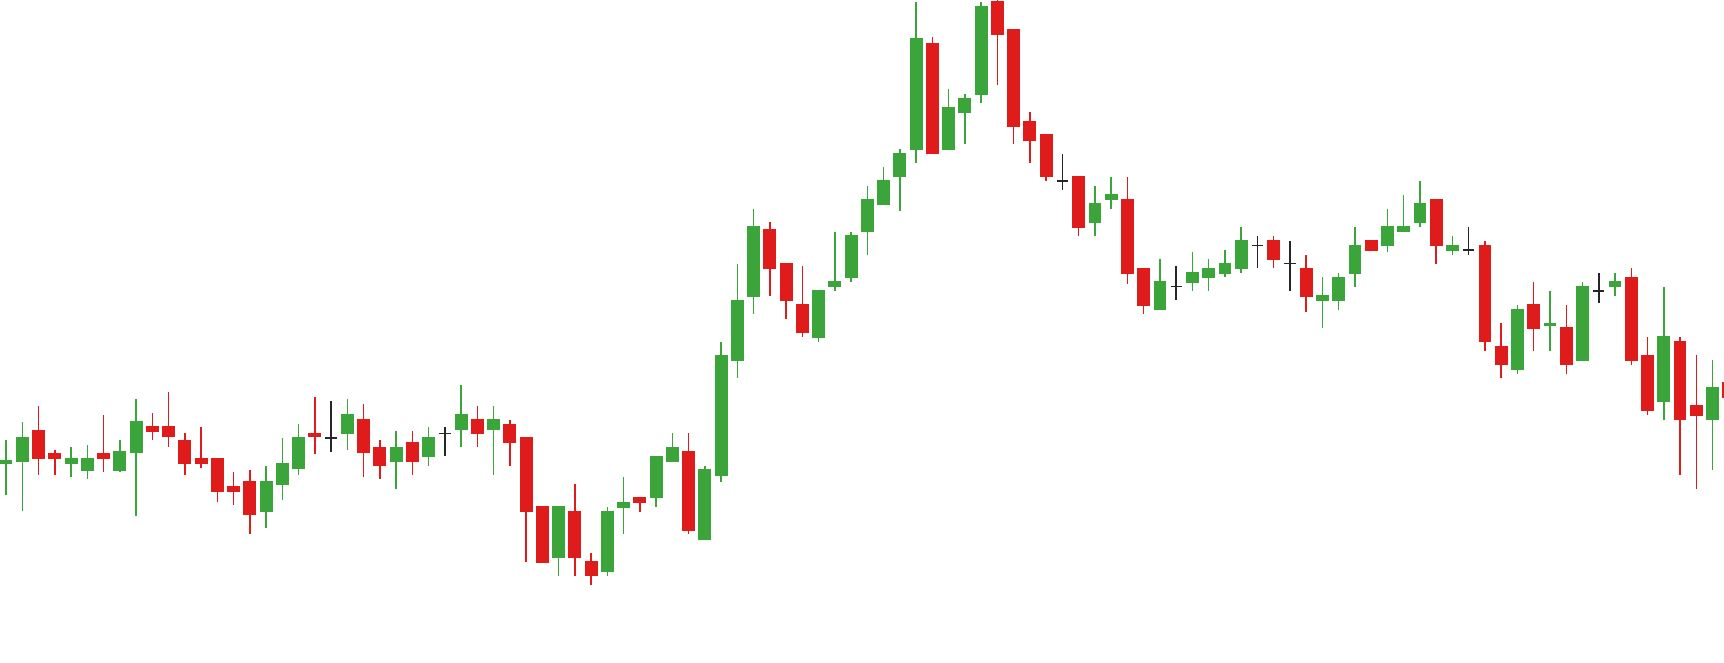buy: (240, 446, 565, 588)
sell: (1528, 277, 1640, 343)
